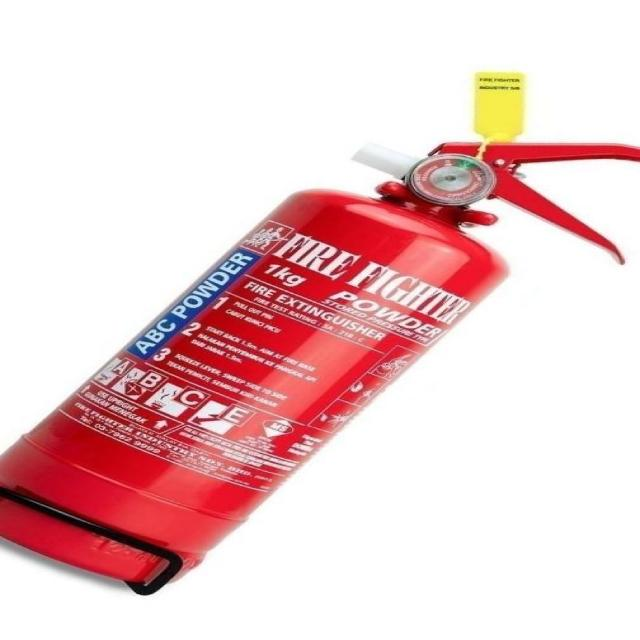fire_extinguisher: (0, 69, 637, 594)
